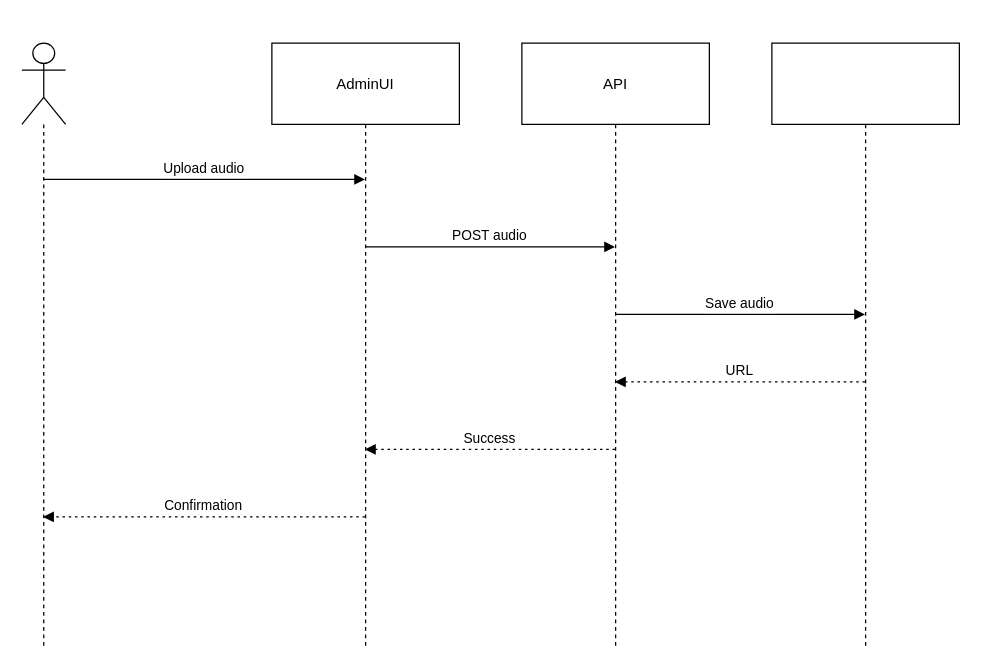
This 981x670 diagram has some shape labels left out. The box of each missing label's shape, as (x1, y1, x2, y2) in pixels:
Admin: (21, 42, 66, 648)
AudioStorage: (771, 42, 959, 648)
